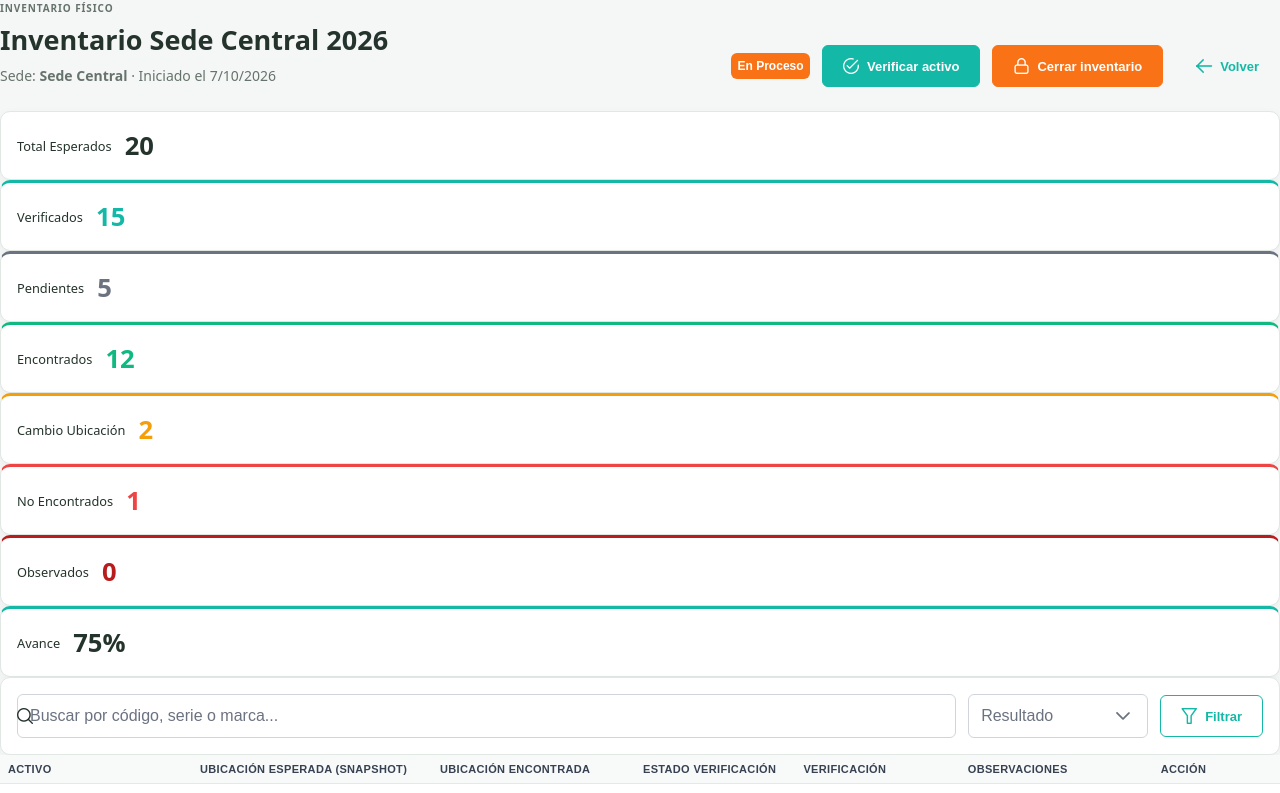
it: Módulo de Inventarios Físicos (Frontend) › muestra advertencia de activos pendientes al abrir diálogo de cierre
What coordinates should you click on to do the following:
click the button "Cerrar inventario"
I would click on:
 (1078, 66)
Its box is [992,45,1163,87].
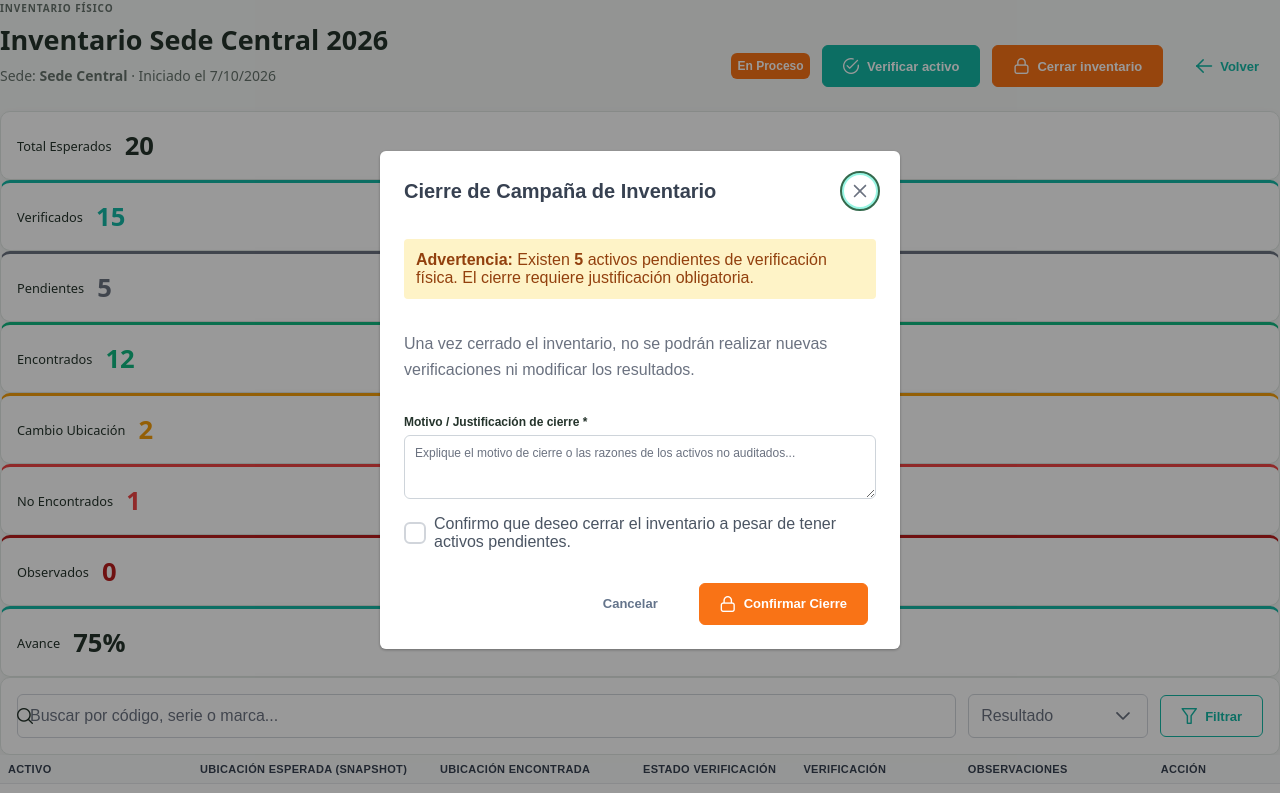
expect the dialog is shown: met, box [380,151,900,649]
expect the text "activos pendientes de verificación física" is shown: met, box [416,251,827,286]
expect the checkbox labelled "Confirmo que deseo cerrar el inventario" is shown: met, box [434,515,876,551]
